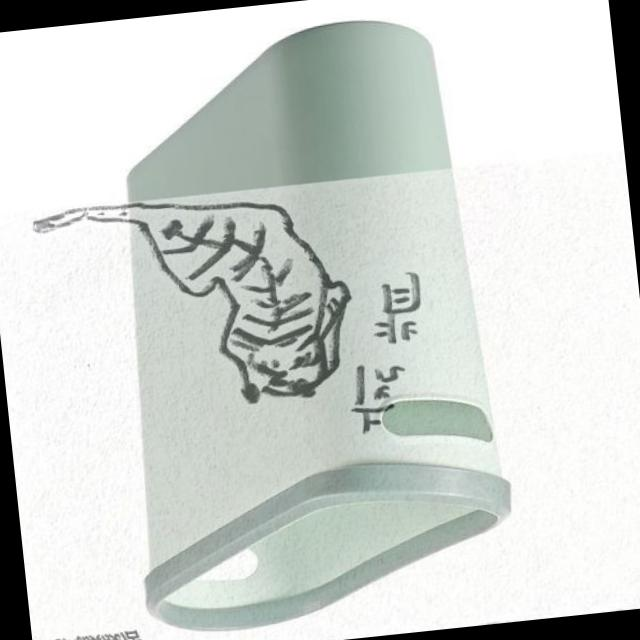dustbin: (82, 0, 529, 640)
